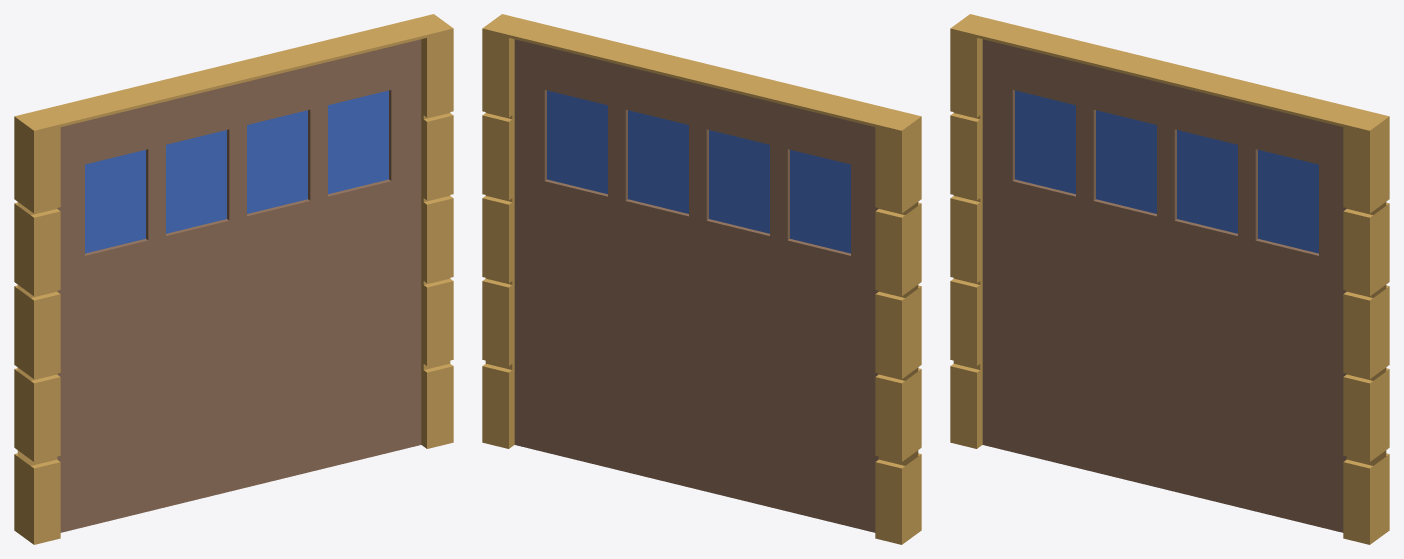
File: GarageDoor01_house5.fbx
3 views of the same model, side by side, from view 1: azimuth 30°, elevation 25°; view 2: azimuth 150°, elevation 25°; view 3: azimuth 330°, elevation 25° (orthographic).
Parts seen in each view (by area): view 1: GarageDoor_01; view 2: GarageDoor_01; view 3: GarageDoor_01.
Part boxes in pixels (<box>): GarageDoor_01: <box>14,14,453,544</box>; GarageDoor_01: <box>482,14,921,544</box>; GarageDoor_01: <box>950,14,1389,544</box>.
Size of the model in its own units: 365 by 344 by 29.8.
